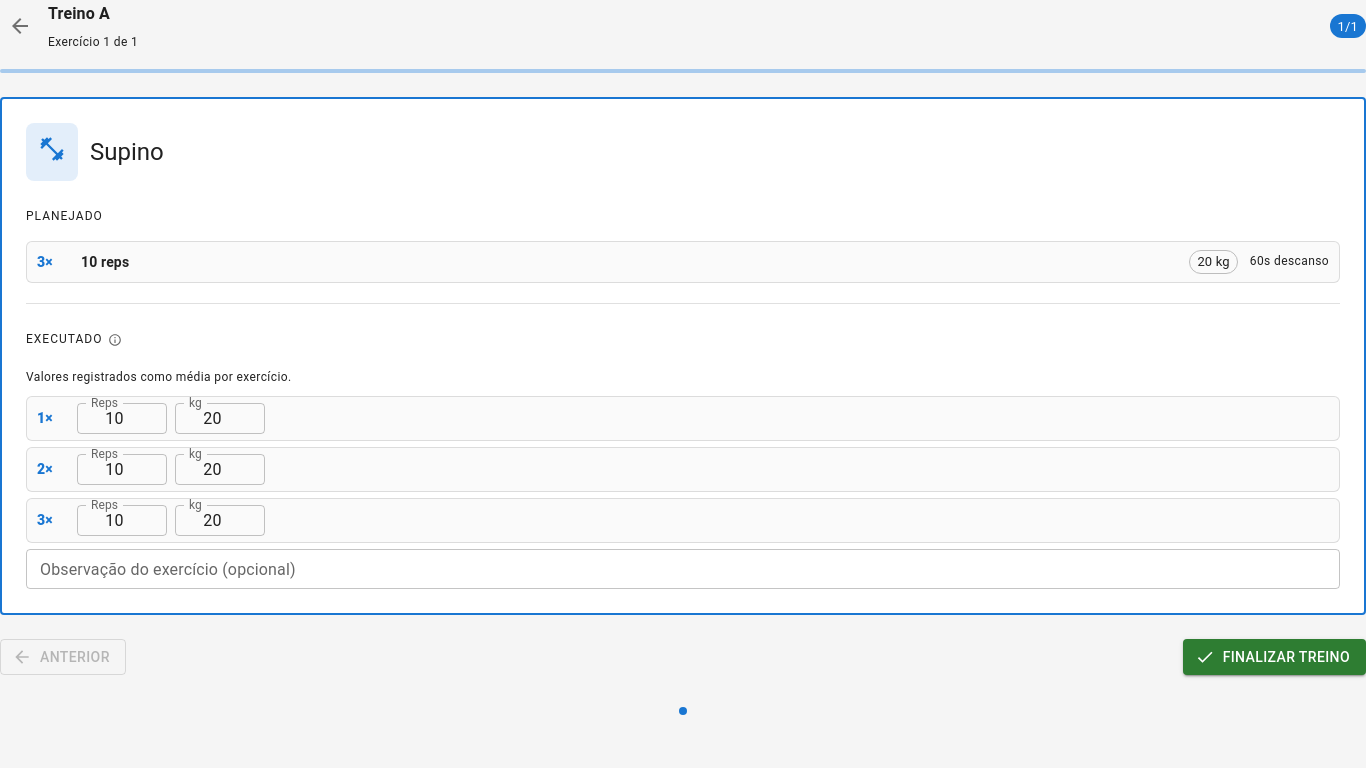
Test: ExecutarFichaPage — hint de agregação por exercício › falha de rede ao finalizar enfileira e mostra 'salva no aparelho' (EXOFF-11/12)
Check: the heading "Supino" is shown, box left=90, top=136, right=164, bottom=168
Click the button "Finalizar treino".
click(1274, 657)  # box left=1183, top=639, right=1365, bottom=675
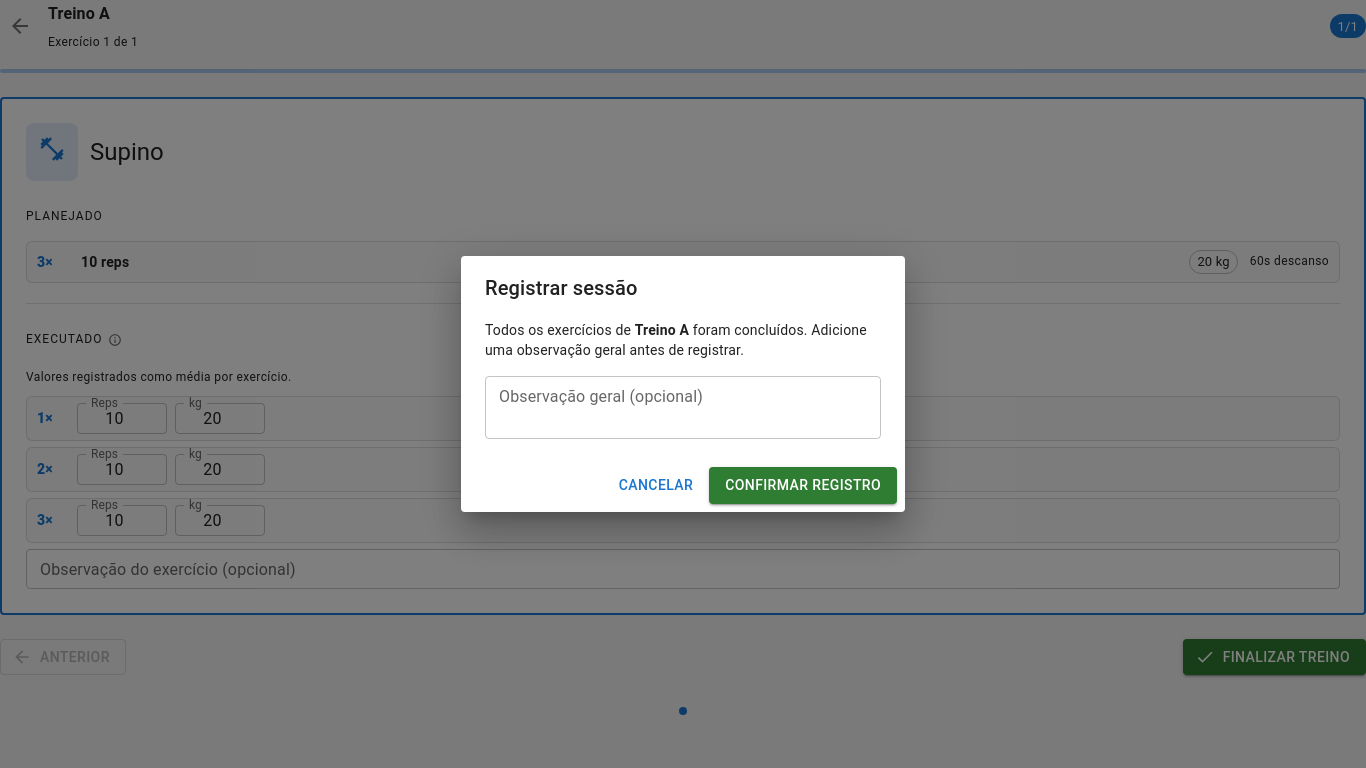
Click the button "Confirmar registro".
click(803, 486)  # box left=709, top=467, right=897, bottom=504
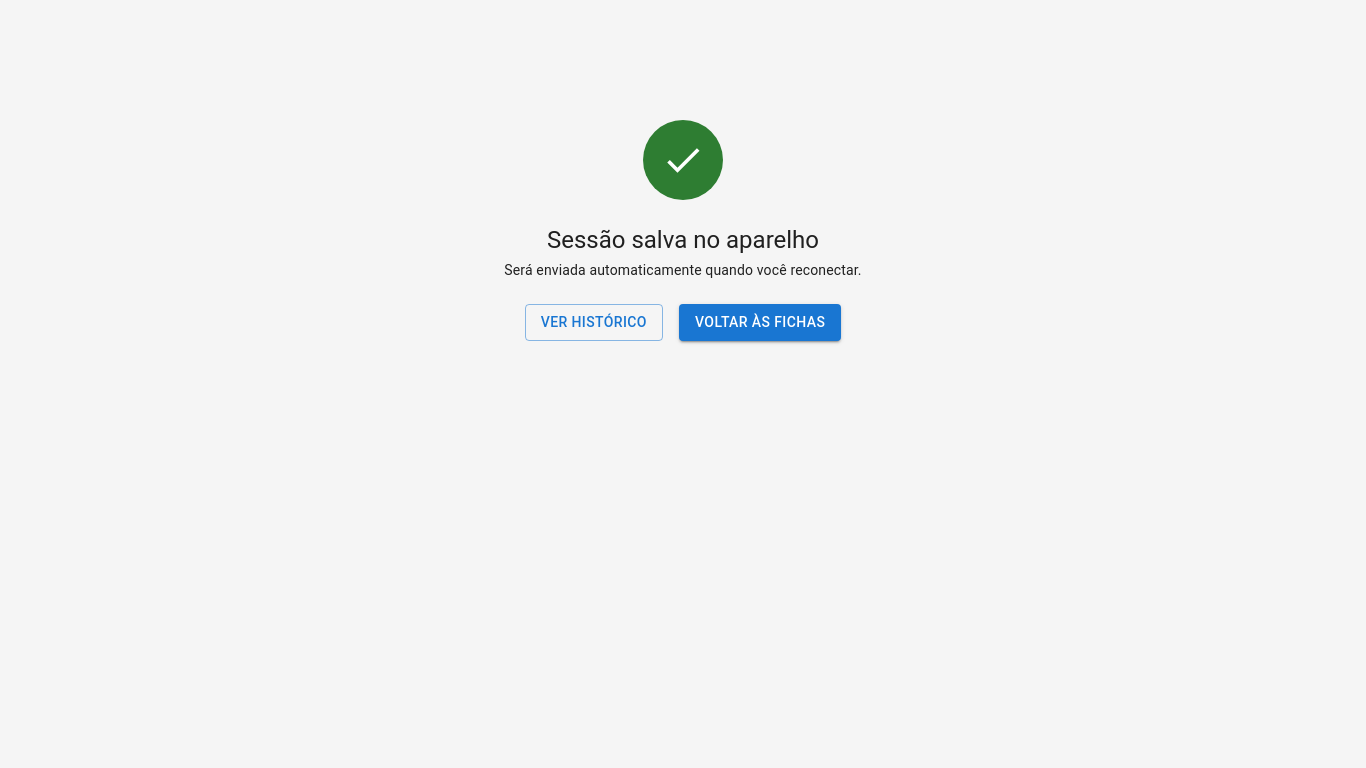
Check: the heading "Sessão salva no aparelho" is shown, box left=547, top=226, right=819, bottom=254
